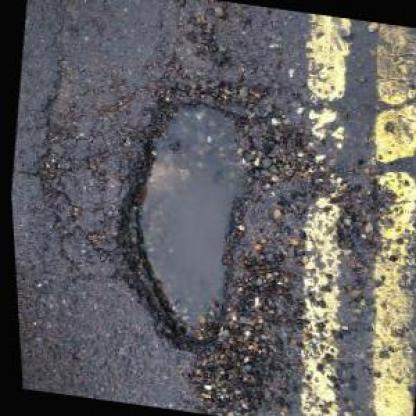pothole: (86, 69, 284, 362)
